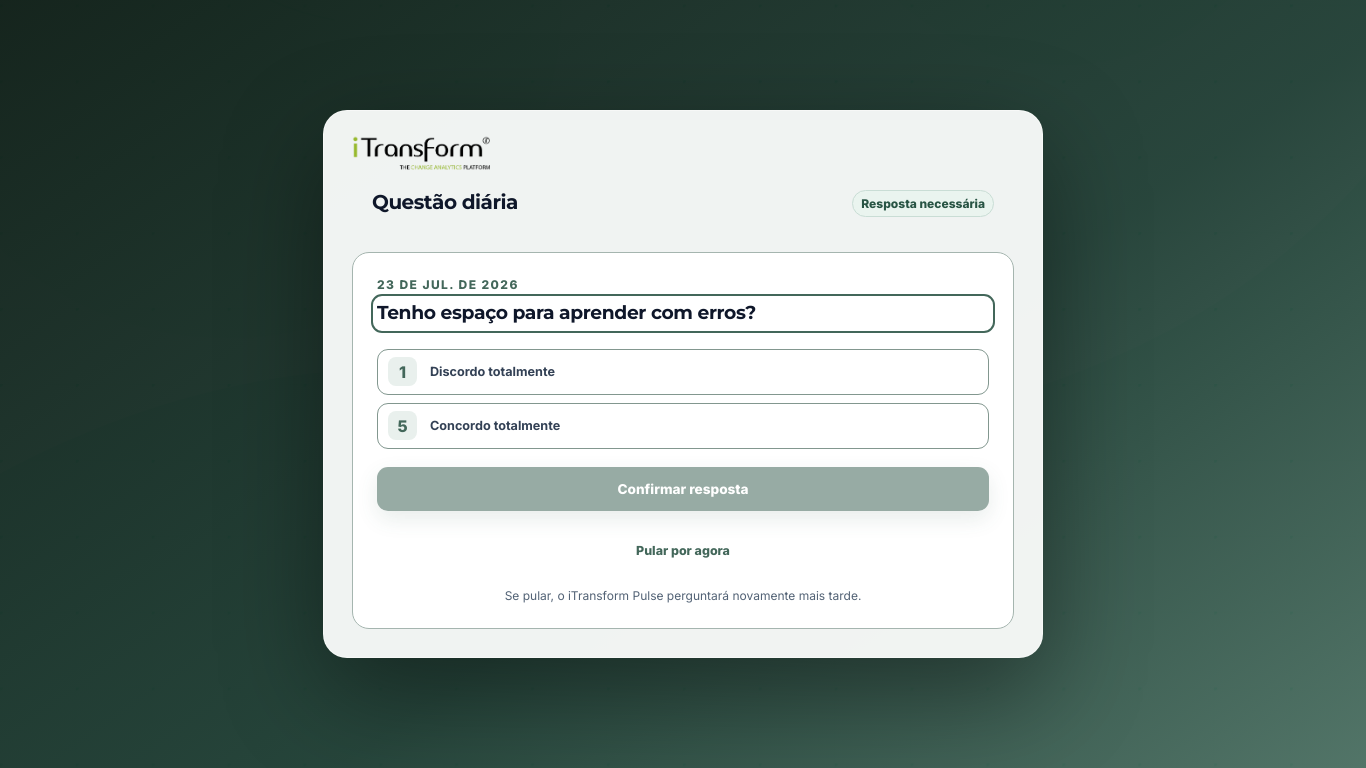
Test: iTransform Pulse app › renders the required daily question on its independent surface
Check: the heading "Tenho espaço para aprender com erros?" is shown, box 377,301 -> 756,324
Check: the text "Resposta necessária" is shown, box 852,190 -> 994,217
Step 1. Click the radio button labelled "5 Concordo totalmente" → (495,426), box 377,403 -> 989,449
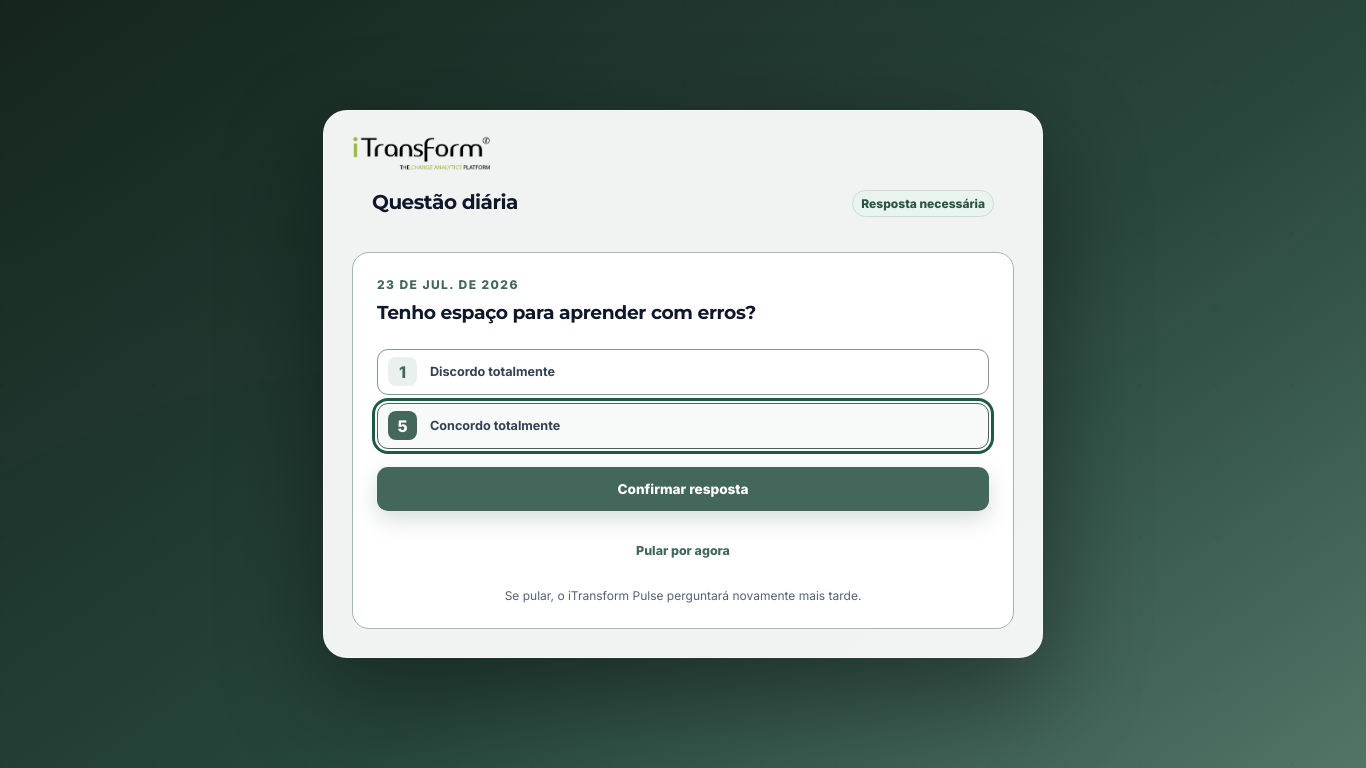
Step 2. Click the button "Confirmar resposta" → (683,489), box 377,467 -> 989,511
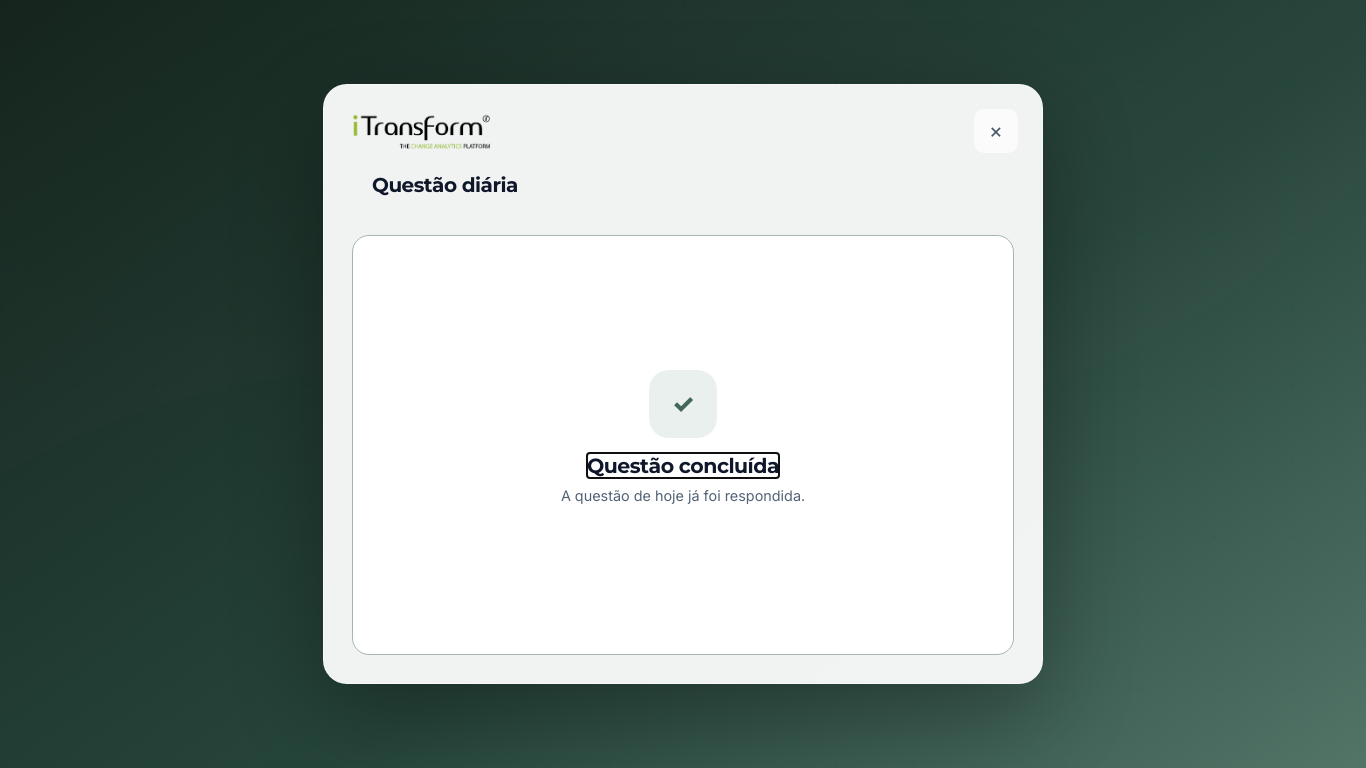
Check: the text "A questão de hoje já foi respondida." is shown, box 561,484 -> 805,506
